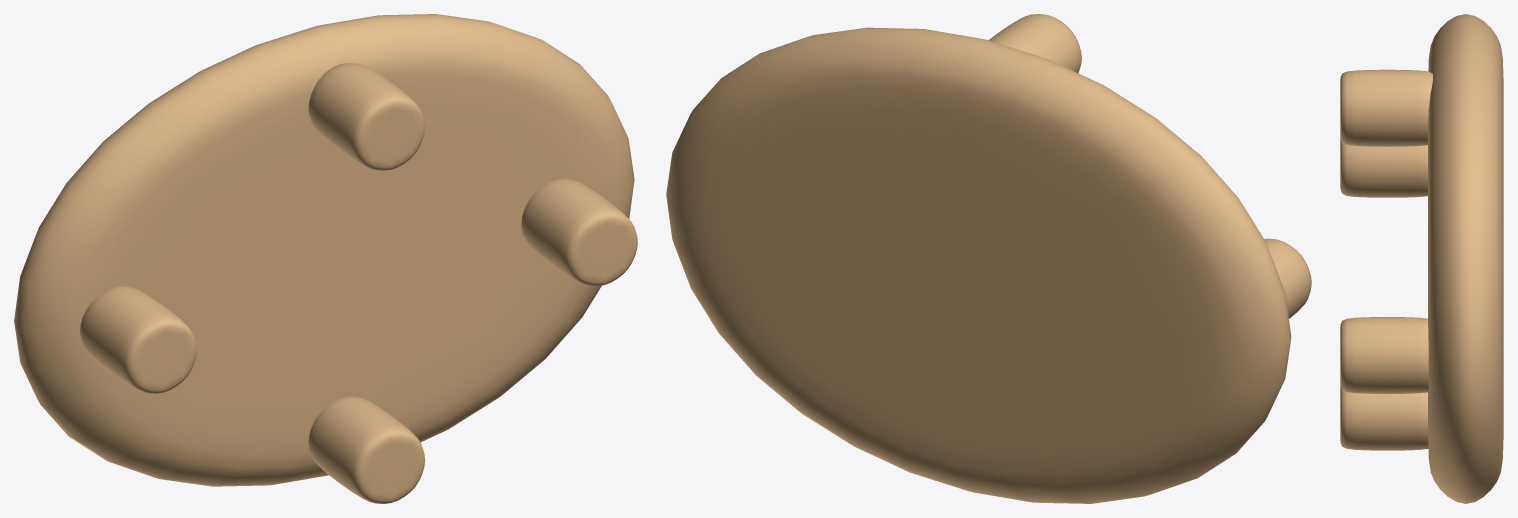
File: coffee_table.glb
3 renders of one model, left to right at view 1: azimuth 30°, elevation 25°; view 2: azimuth 150°, elevation 25°; view 3: azimuth 270°, elevation 25°, orthographic. The views are drawn at different scales.
Parts seen in each view (by area): view 1: coffee_table; view 2: coffee_table; view 3: coffee_table.
Boxes of the visible parts, x1,y1,x2,y2 form: coffee_table: (14,14,637,503); coffee_table: (666,14,1311,503); coffee_table: (1340,14,1503,503).
Size of the model in its own units: 1.37 by 0.9476 by 0.3447.
